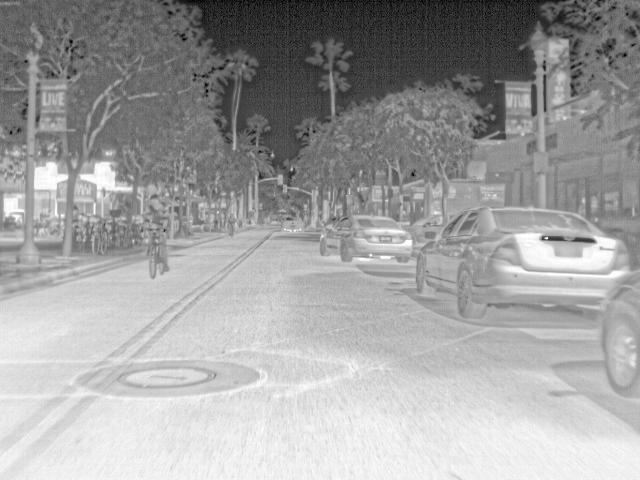car: (414, 205, 630, 319), (600, 270, 639, 398), (318, 213, 413, 263), (400, 213, 455, 243), (280, 214, 305, 232)
person: (145, 192, 169, 234), (219, 209, 225, 226), (214, 209, 219, 226), (228, 209, 234, 222)
